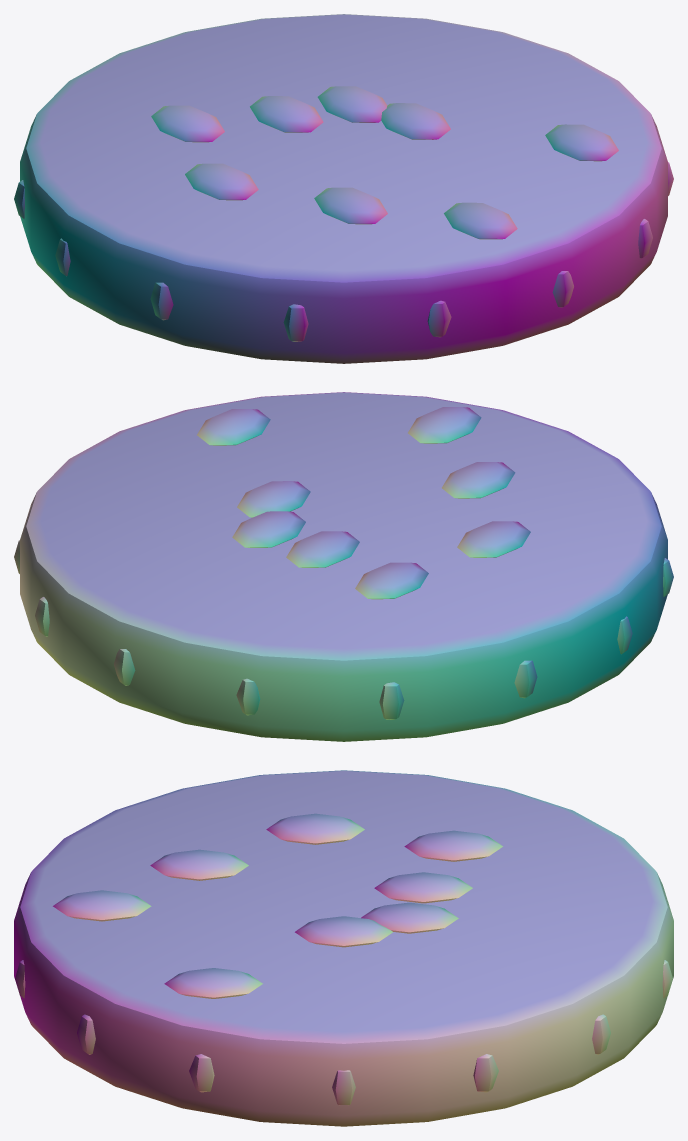
Rendered from env_deco_cookie.glb.
The picture shows the model from 3 angles, top to bottom: view 1: azimuth 30°, elevation 25°; view 2: azimuth 150°, elevation 25°; view 3: azimuth 270°, elevation 25°; orthographic projection.
Visible parts, largest first — view 1: env_deco_cookie_mesh; view 2: env_deco_cookie_mesh; view 3: env_deco_cookie_mesh.
Part boxes in pixels (x1,y1,x2,y2): env_deco_cookie_mesh: (14,14,673,363); env_deco_cookie_mesh: (14,392,673,741); env_deco_cookie_mesh: (14,770,673,1126).
Size of the model in its own units: 0.2841 by 0.05 by 0.28.
